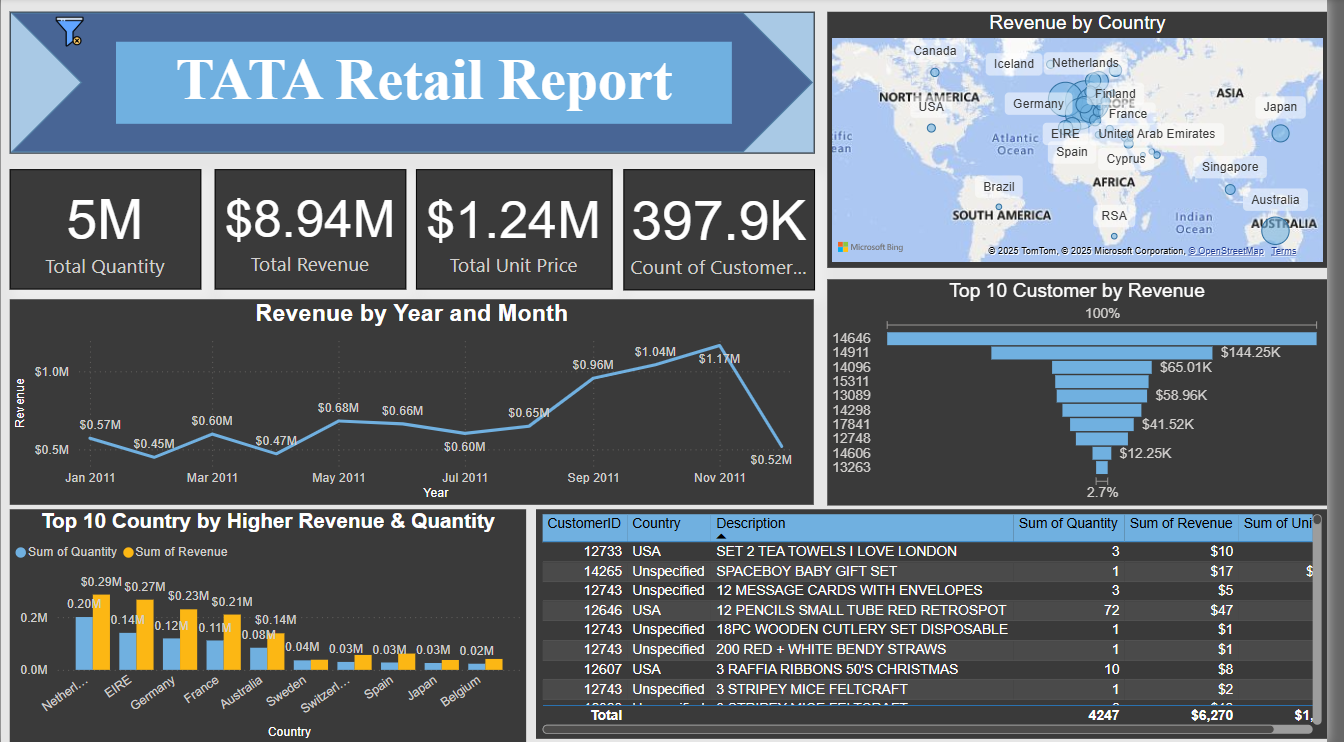

This screenshot's page, from the dashboard's own definition file:
{"tool":"powerbi","page":{"name":"Dashboard","canvas":[1280,720],"ordinal":4},"visuals":[{"type":"shape","box":[8.6,13.5,776.5,137],"z":0},{"type":"textbox","box":[111.3,42.8,594.3,79.5],"z":1000},{"type":"card","title":"Total Qua","fields":{"Values":["Sum(Online Retail.Quantity)"]},"box":[8.4,165.3,184.6,115.8],"z":2000},{"type":"card","title":"Total Qua","fields":{"Values":["Sum(Online Retail.Revenue)"]},"box":[206.3,165.3,184.6,115.8],"z":3000},{"type":"card","title":"Total Qua","fields":{"Values":["Sum(Online Retail.UnitPrice)"]},"box":[400.5,165.3,189.4,115.8],"z":4000},{"type":"card","title":"Total Qua","fields":{"Values":["CountNonNull(Online Retail.CustomerID)"]},"box":[600.4,165.1,184.6,117],"z":5000},{"type":"lineChart","fields":{"Y":["Sum(Online Retail.Revenue)"],"Category":["Online Retail.InvoiceDate.Variation.Date Hierarchy.Year","Online Retail.InvoiceDate.Variation.Date Hierarchy.Month"]},"box":[8.8,291.2,776.2,198.8],"z":6000},{"type":"map","title":"Revenue by Country","fields":{"Size":["Sum(Online Retail.Quantity)"],"Category":["Online Retail.Country"]},"box":[797.3,13.7,483,247],"z":7000},{"type":"clusteredColumnChart","title":"Top 10 Country by Higher Revenue & Quantity","fields":{"Category":["Online Retail.Country"],"Y":["Sum(Online Retail.Quantity)","Sum(Online Retail.Revenue)"]},"box":[8.4,493.4,498.3,226.8],"z":8000},{"type":"funnel","title":"Top 10  Customer by Revenue","fields":{"Category":["Online Retail.CustomerID"],"Y":["Sum(Online Retail.Revenue)"]},"box":[797.5,271.2,482.5,218.8],"z":9000},{"type":"tableEx","fields":{"Values":["Online Retail.CustomerID","Online Retail.Country","Online Retail.Description","Sum(Online Retail.Quantity)","Sum(Online Retail.Revenue)","Sum(Online Retail.UnitPrice)"]},"box":[516.4,493.4,763.7,222],"z":10000},{"type":"image","box":[39.8,13.3,53.1,38.6],"z":11000}]}

Visuals, with their boxes in screenshot pixels (x1, y1, x2, y2), scaled from the page's 1280x720 canvas onto the 1344x742 screenshot:
shape: <box>9,14,824,155</box>
textbox: <box>117,44,741,126</box>
"Total Qua" card: <box>9,170,203,290</box>
"Total Qua" card: <box>217,170,410,290</box>
"Total Qua" card: <box>421,170,619,290</box>
"Total Qua" card: <box>630,170,824,291</box>
lineChart - Sum(Online Retail.Revenue) x Online Retail.InvoiceDate.Variation.Date Hierarchy.Year: <box>9,300,824,505</box>
"Revenue by Country" map: <box>837,14,1343,269</box>
"Top 10 Country by Higher Revenue & Quantity" clusteredColumnChart: <box>9,508,532,741</box>
"Top 10  Customer by Revenue" funnel: <box>837,279,1343,505</box>
tableEx - Online Retail.CustomerID x Online Retail.Country: <box>542,508,1343,737</box>
image: <box>42,14,98,53</box>
